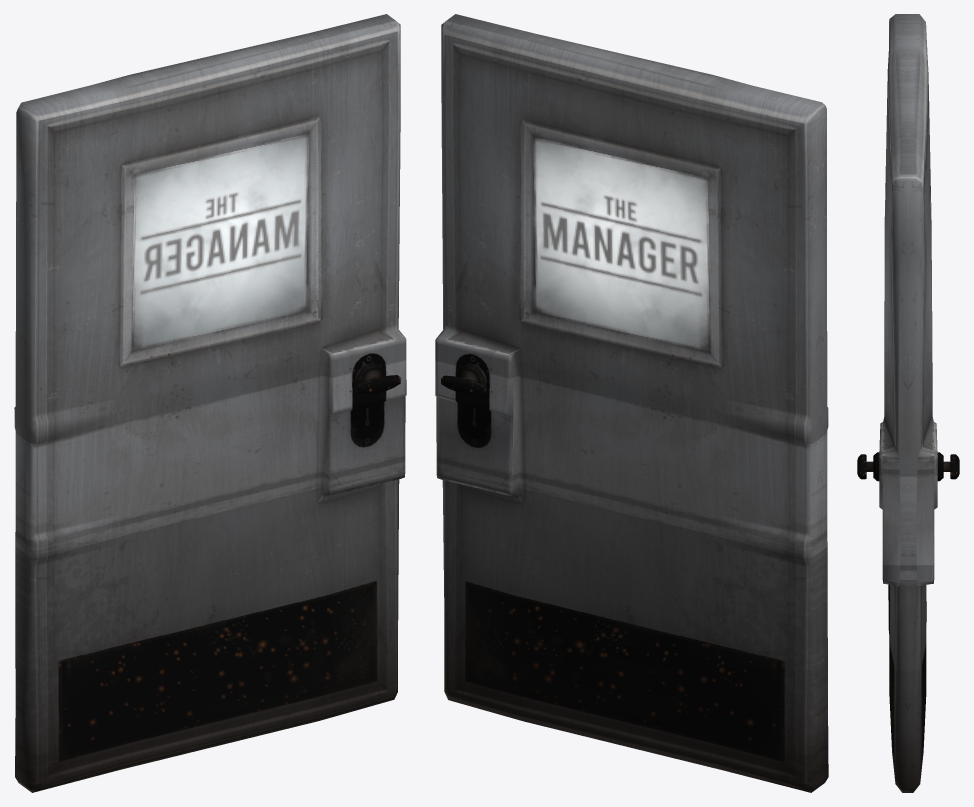
File: Managers Office Door 3D Model.glb
The picture shows the model from 3 angles, left to right: view 1: azimuth 30°, elevation 25°; view 2: azimuth 150°, elevation 25°; view 3: azimuth 270°, elevation 25°; orthographic projection. The views are drawn at different scales.
Visible parts, largest first — view 1: Object_3; view 2: Object_3; view 3: Object_3, Object_2.
Boxes of the visible parts, x1,y1,x2,y2 form: Object_3: [14, 14, 406, 792]; Object_3: [435, 14, 828, 792]; Object_3: [866, 14, 950, 792]; Object_2: [857, 454, 959, 479].
Bounding box in the file's own units: 12.13 × 21.06 × 3.15.
Materials: 2 (2 with a texture image).
